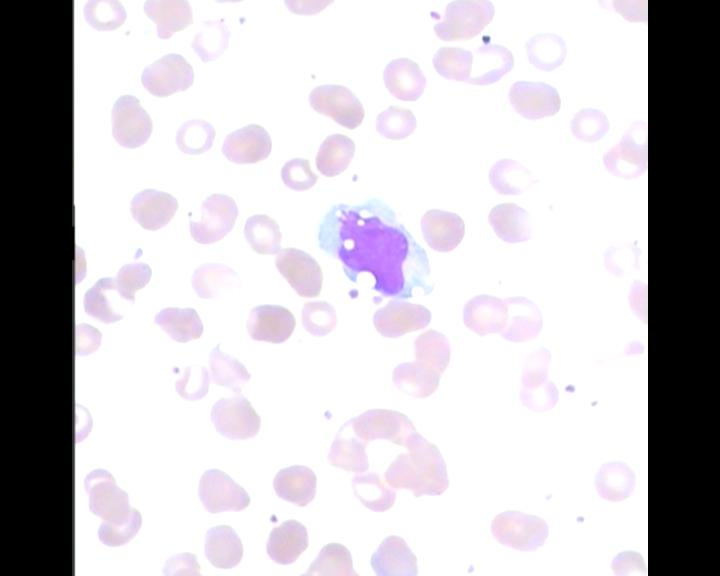mono: (309, 196, 438, 308)
